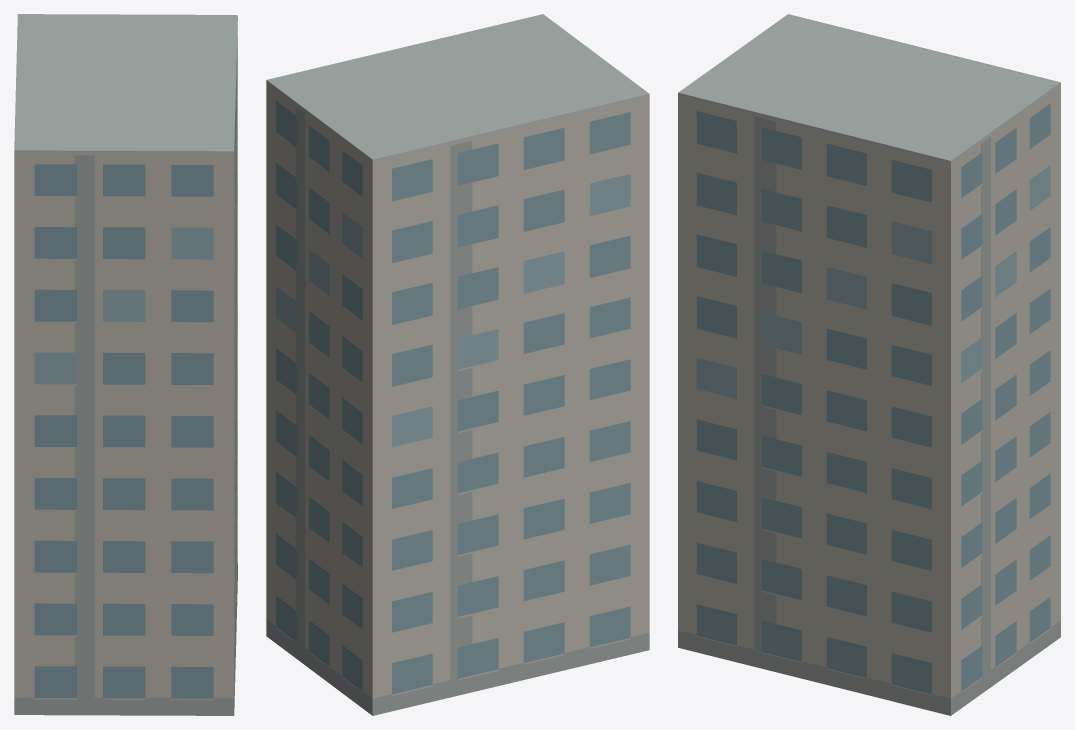
The model's file is residential-f66009b8-503e-4ca8-82ce-2d470055dcf3.glb.
The picture shows the model from 3 angles, left to right: view 1: azimuth 30°, elevation 25°; view 2: azimuth 150°, elevation 25°; view 3: azimuth 270°, elevation 25°; orthographic projection.
Visible parts, largest first — view 1: residential-f66009b8-503e-4ca8-82ce-2d470055dcf3.tmp; view 2: residential-f66009b8-503e-4ca8-82ce-2d470055dcf3.tmp; view 3: residential-f66009b8-503e-4ca8-82ce-2d470055dcf3.tmp.
Boxes of the visible parts, x1,y1,x2,y2 form: residential-f66009b8-503e-4ca8-82ce-2d470055dcf3.tmp: (14, 14, 237, 715); residential-f66009b8-503e-4ca8-82ce-2d470055dcf3.tmp: (266, 14, 649, 715); residential-f66009b8-503e-4ca8-82ce-2d470055dcf3.tmp: (678, 14, 1060, 715).
Bounding box in the file's own units: 16.47 × 29 × 18.13.
